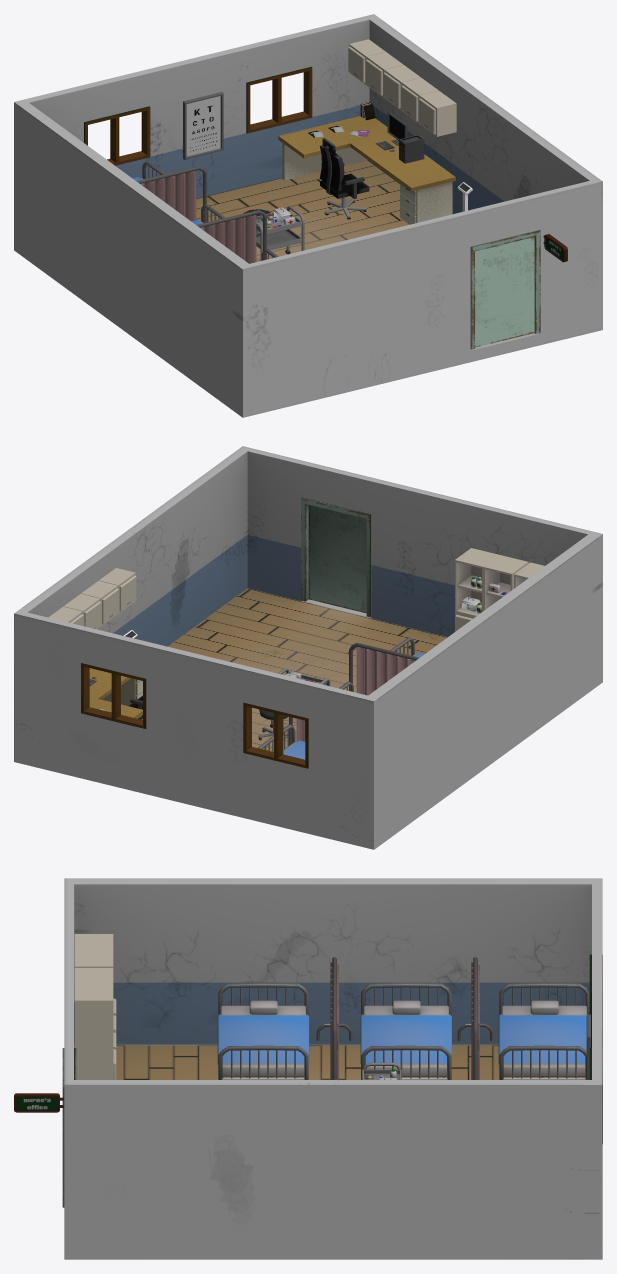
File: doctorroom.fbx
3 views of the same model, one above another, from view 1: azimuth 30°, elevation 25°; view 2: azimuth 150°, elevation 25°; view 3: azimuth 270°, elevation 25° (orthographic). The views are drawn at different scales.
Visible parts, largest first — view 1: Cube.039, doctordesk.001, door, shelf.002, eyetest.001, blind.001, blind.002, teacherchair.001, window, door.001, window.001, Cube.192 (+1 smaller); view 2: Cube.039, door, shelf.004, shelf.002, blind.002, window.001, window, door.001, doctordesk.001, bed.001; view 3: Cube.039, bed.003, bed.001, bed.002, shelf.004, shelf.003, blind.001, blind.002, classroomname.009, door.001.
Boxes of the visible parts, box(x1,y1,x2,y2) form: Cube.039: box(14, 14, 602, 417); doctordesk.001: box(278, 116, 455, 224); door: box(475, 237, 534, 347); shelf.002: box(348, 39, 456, 136); eyetest.001: box(183, 92, 223, 159); blind.001: box(136, 166, 206, 222); blind.002: box(196, 210, 266, 263); teacherchair.001: box(319, 138, 369, 219); window: box(246, 66, 312, 133); door.001: box(470, 230, 540, 349); window.001: box(84, 106, 150, 165); Cube.192: box(256, 206, 304, 260); Cube.039: box(14, 446, 602, 849); door: box(308, 505, 366, 613); shelf.004: box(455, 548, 528, 631); shelf.002: box(48, 568, 136, 629); blind.002: box(349, 642, 419, 695); window.001: box(243, 702, 308, 768); window: box(81, 663, 146, 728); door.001: box(301, 497, 370, 616); doctordesk.001: box(89, 668, 142, 718); bed.001: box(258, 724, 305, 759); Cube.039: box(64, 878, 602, 1259); bed.003: box(217, 983, 309, 1079); bed.001: box(498, 983, 589, 1079); bed.002: box(360, 983, 451, 1079); shelf.004: box(74, 968, 116, 1079); shelf.003: box(74, 934, 116, 1033); blind.001: box(457, 957, 493, 1079); blind.002: box(316, 957, 352, 1079); classroomname.009: box(14, 1093, 64, 1112); door.001: box(62, 1048, 76, 1207).
Bounding box in the file's own units: 451 × 177 × 543.
